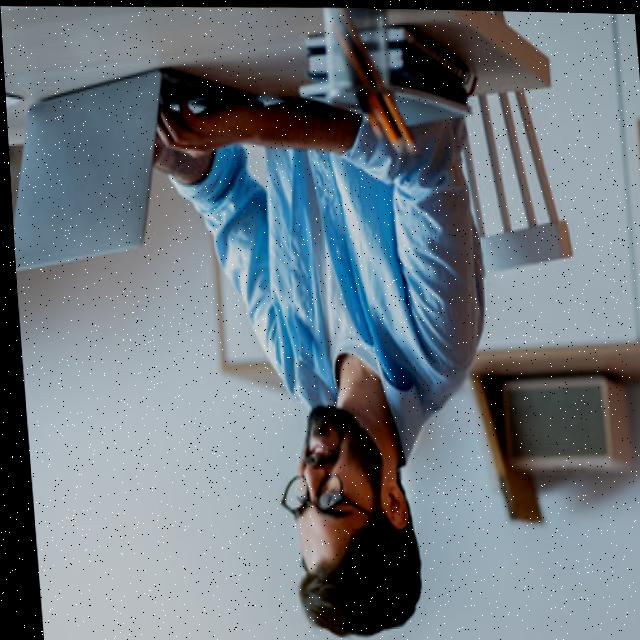notebook-person: (1, 31, 515, 640)
